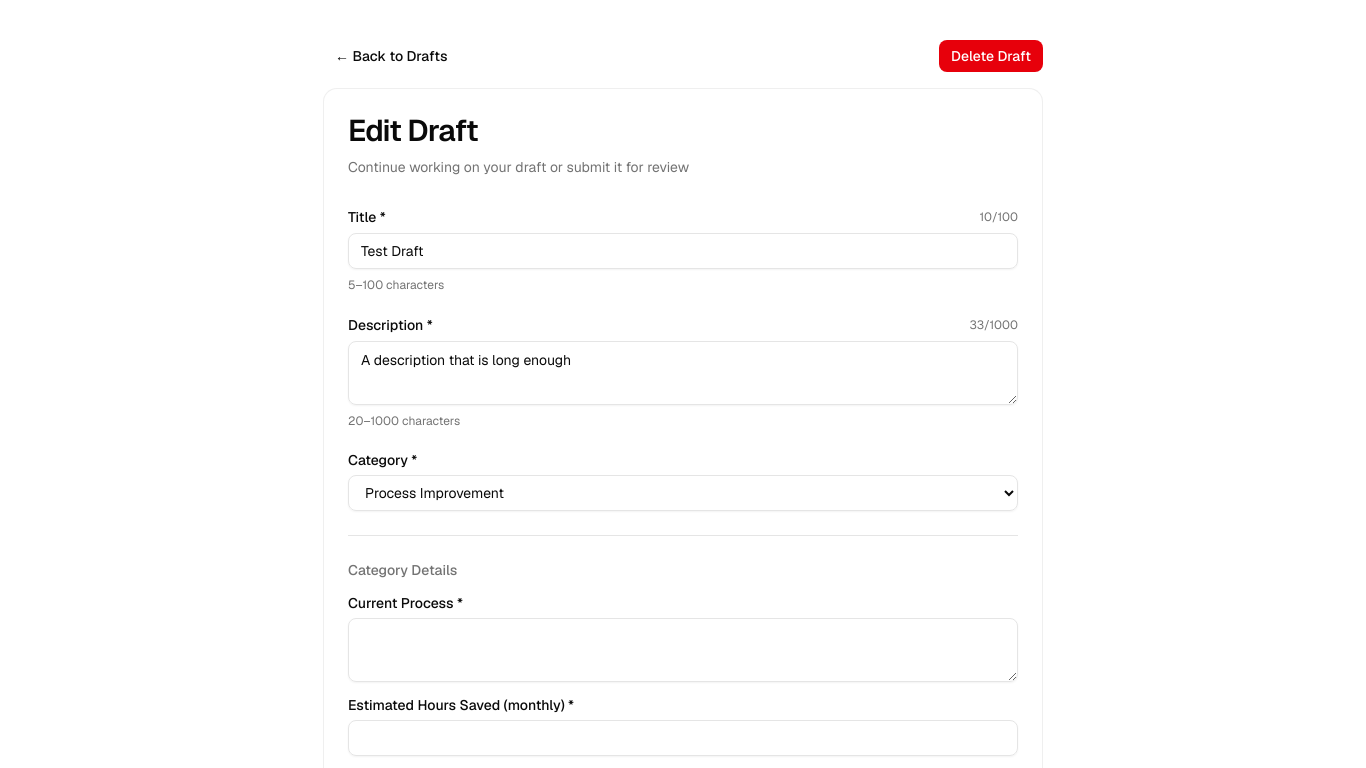
it: DraftEditPage delete › shows AlertDialog confirmation when Delete Draft is clicked
Click the button "Delete Draft" at (991, 56), box [939, 40, 1043, 72]
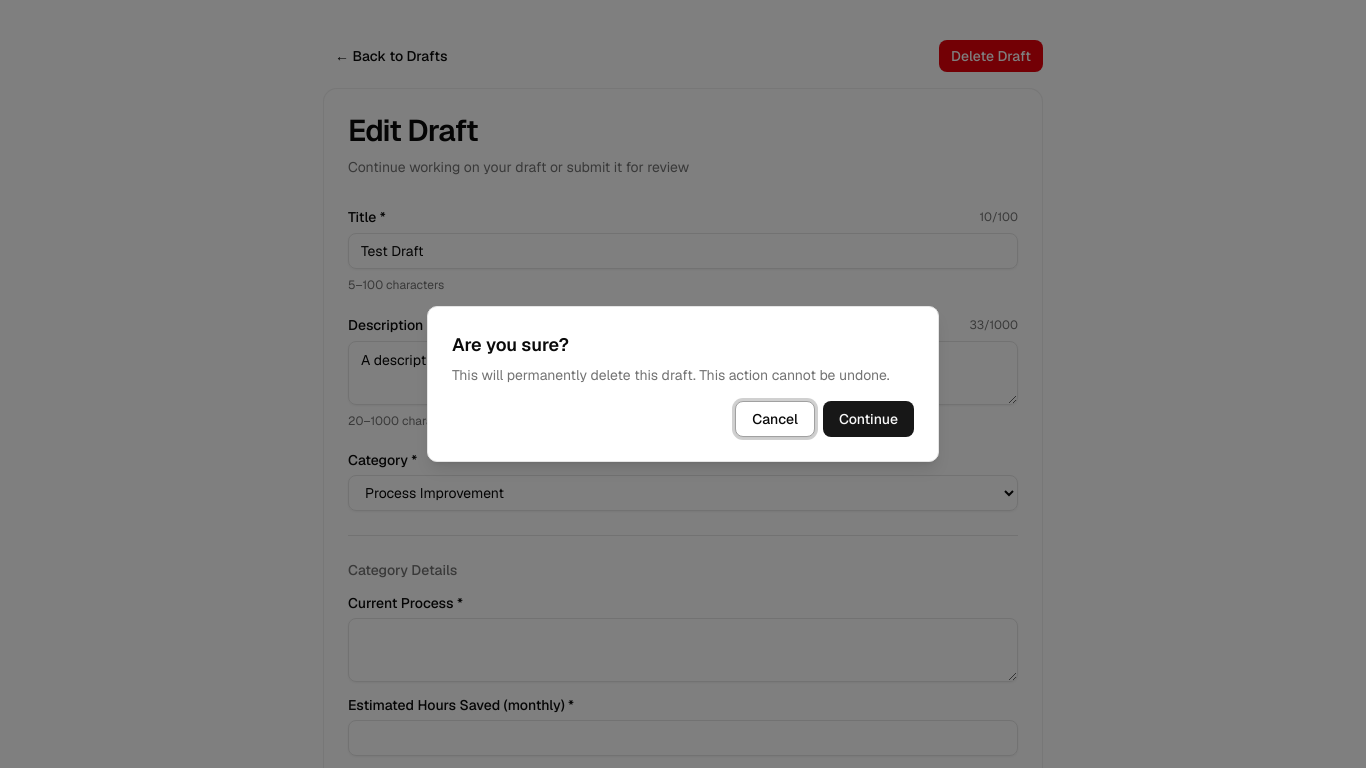
expect the heading "Are you sure?" is shown: met, box [452, 331, 569, 359]
expect the button "Cancel" is shown: met, box [735, 401, 815, 437]
expect the button "Continue" is shown: met, box [823, 401, 914, 437]
